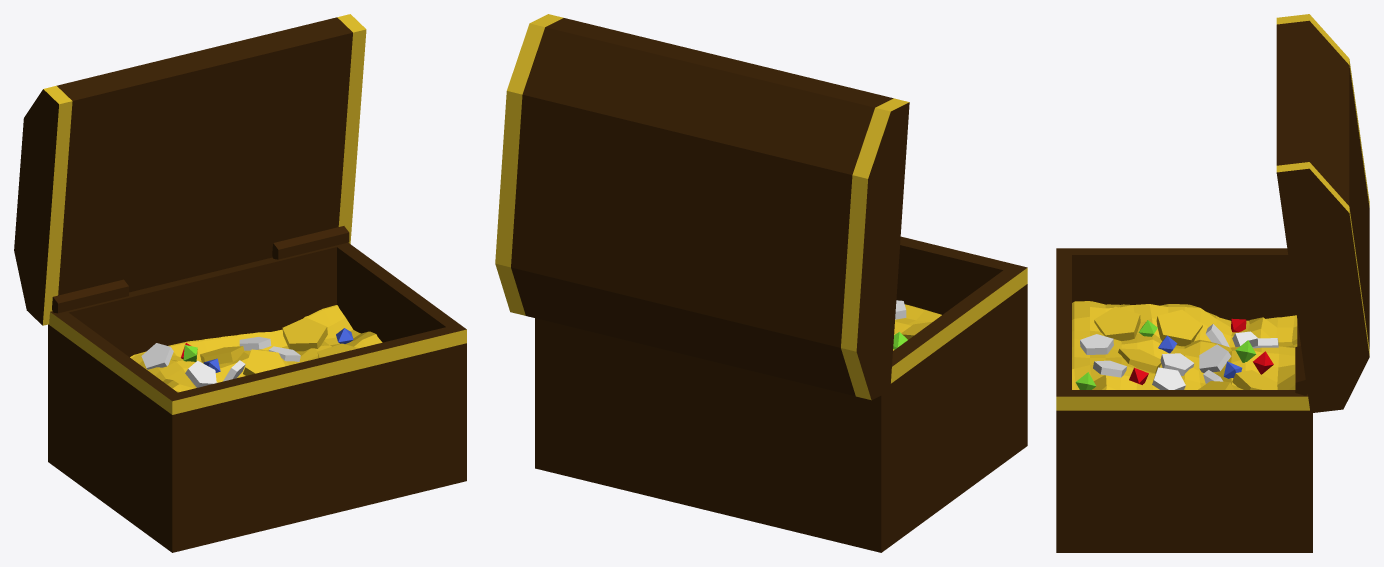
The model's file is Chest.glb.
3 renders of one model, left to right at view 1: azimuth 30°, elevation 25°; view 2: azimuth 150°, elevation 25°; view 3: azimuth 270°, elevation 25°, orthographic. The views are drawn at different scales.
Parts seen in each view (by area): view 1: Chest; view 2: Chest; view 3: Chest.
Boxes of the visible parts, box(x1,y1,x2,y2) form: Chest: box(14, 14, 466, 552); Chest: box(495, 14, 1027, 552); Chest: box(1056, 14, 1369, 552).
Bounding box in the file's own units: 1.62 × 1.89 × 1.38.
